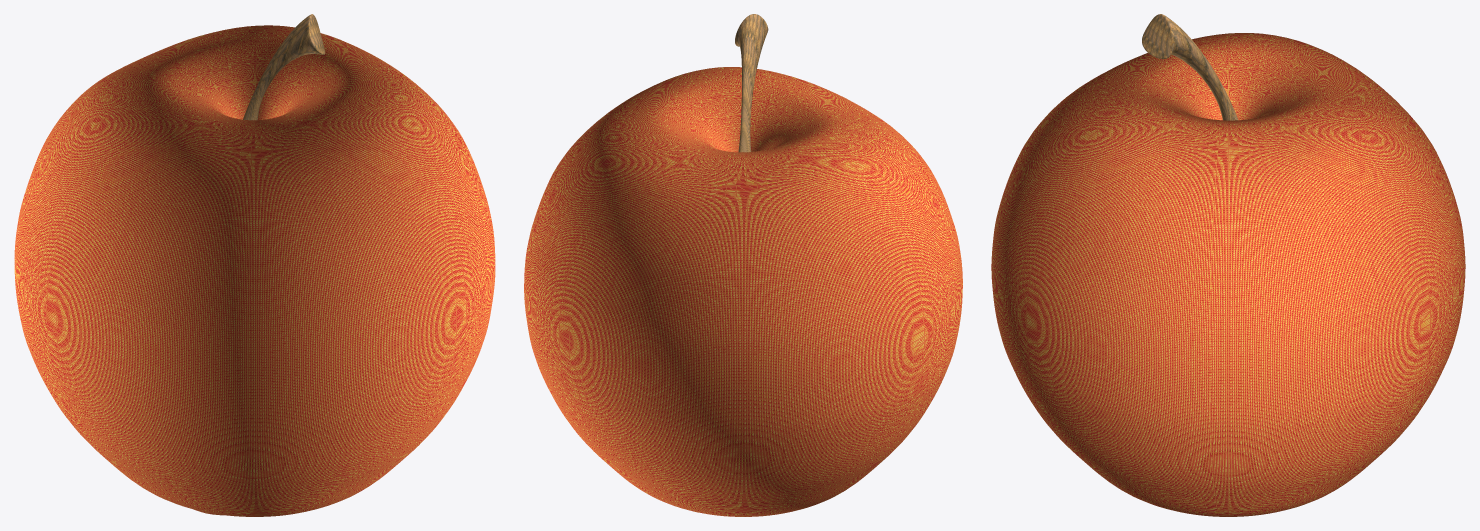
The model's file is apple.glb.
3 views of the same model, side by side, from view 1: azimuth 30°, elevation 25°; view 2: azimuth 150°, elevation 25°; view 3: azimuth 270°, elevation 25° (orthographic). The views are drawn at different scales.
Visible parts, largest first — view 1: Apple-OBJ.001; view 2: Apple-OBJ.001; view 3: Apple-OBJ.001.
Part boxes in pixels (x1,y1,x2,y2): Apple-OBJ.001: (14,14,495,516); Apple-OBJ.001: (524,14,962,516); Apple-OBJ.001: (991,14,1465,516).
Size of the model in its own units: 0.506 by 0.5795 by 0.506.
Materials: 2 (2 with a texture image).
